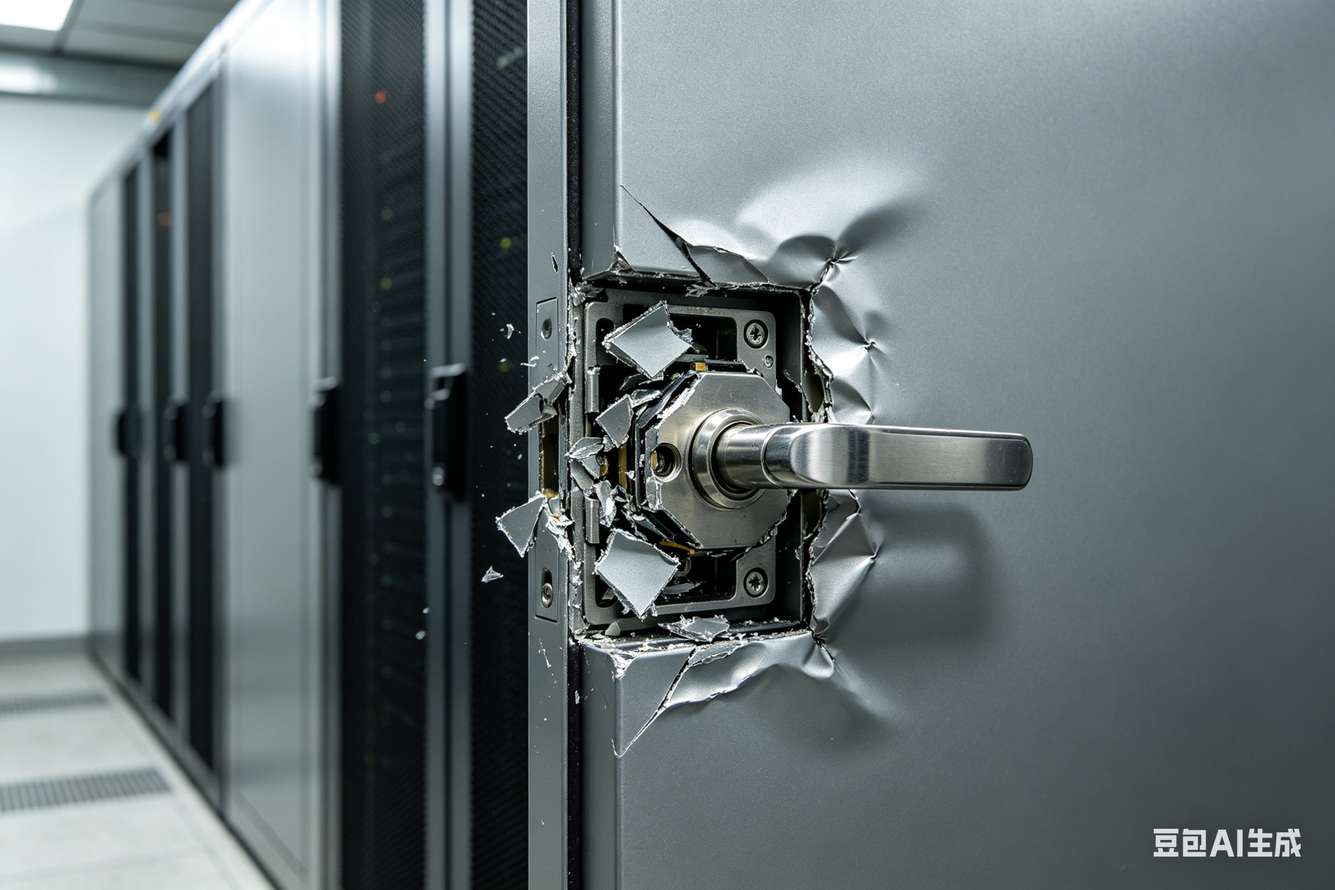BadLock: (539, 267, 835, 659)
